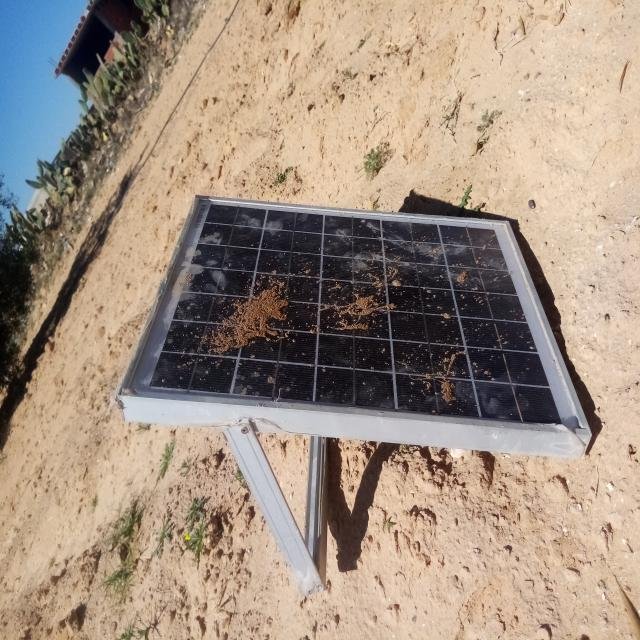faulty: (123, 201, 588, 429)
